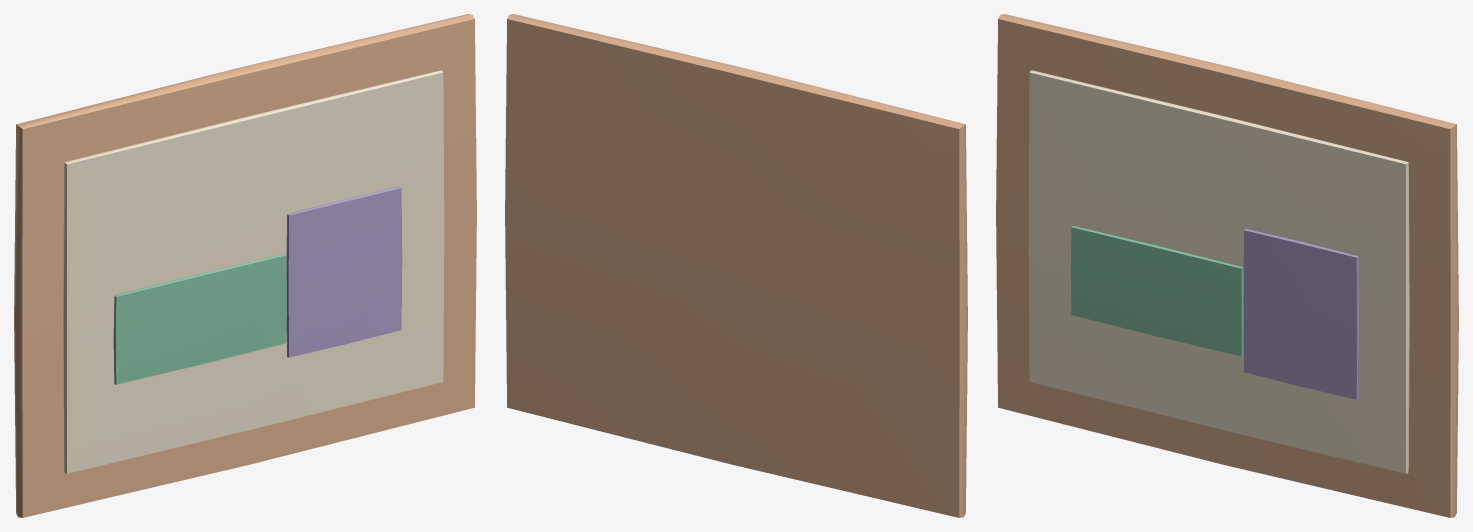
File: picture-frame.glb
3 views of the same model, side by side, from view 1: azimuth 30°, elevation 25°; view 2: azimuth 150°, elevation 25°; view 3: azimuth 330°, elevation 25° (orthographic).
Parts seen in each view (by area): view 1: part (×4); view 2: part; view 3: part (×4).
Part boxes in pixels (x1,y1,x2,y2): part (×4): [14, 14, 476, 517]; part: [505, 14, 967, 517]; part (×4): [996, 14, 1458, 517].
Size of the model in its own units: 1.36 by 1.12 by 0.102.
Materials: 1 (1 with a texture image).
